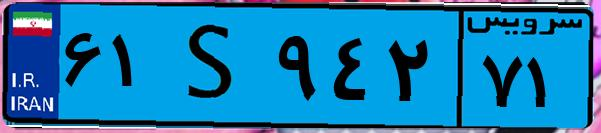1: (525, 38, 570, 115), (110, 28, 158, 98)
2: (385, 28, 445, 110)
4: (330, 28, 385, 110)
6: (57, 26, 110, 100)
7: (475, 38, 525, 113)
9: (270, 28, 330, 110)
S: (158, 12, 270, 120)
